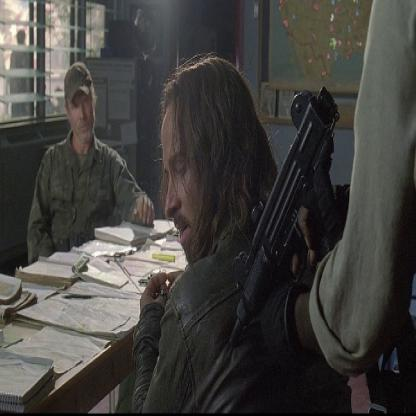Guns: (224, 83, 348, 344)
